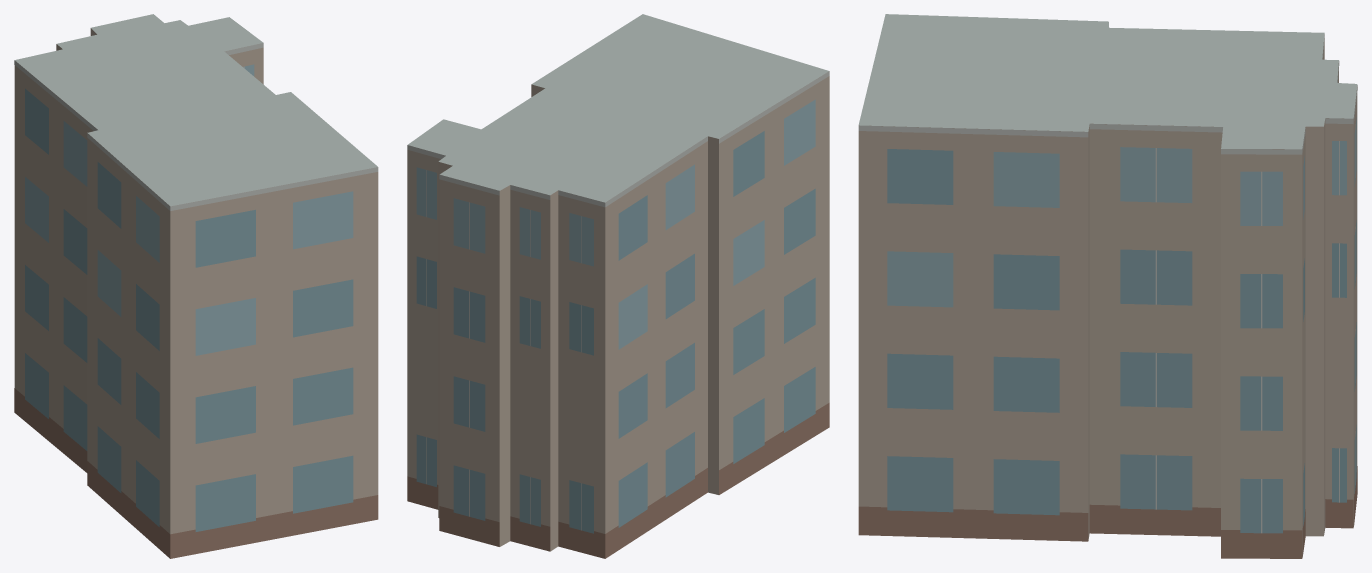
The model's file is survey-upis-32806415.glb.
3 views of the same model, side by side, from view 1: azimuth 30°, elevation 25°; view 2: azimuth 150°, elevation 25°; view 3: azimuth 270°, elevation 25° (orthographic). The views are drawn at different scales.
Parts seen in each view (by area): view 1: survey-upis-32806415.tmp; view 2: survey-upis-32806415.tmp; view 3: survey-upis-32806415.tmp.
Boxes of the visible parts, x1,y1,x2,y2 form: survey-upis-32806415.tmp: (14,14,378,558); survey-upis-32806415.tmp: (407,14,829,558); survey-upis-32806415.tmp: (858,14,1357,558).
Size of the model in its own units: 12.86 by 18.15 by 20.05.
